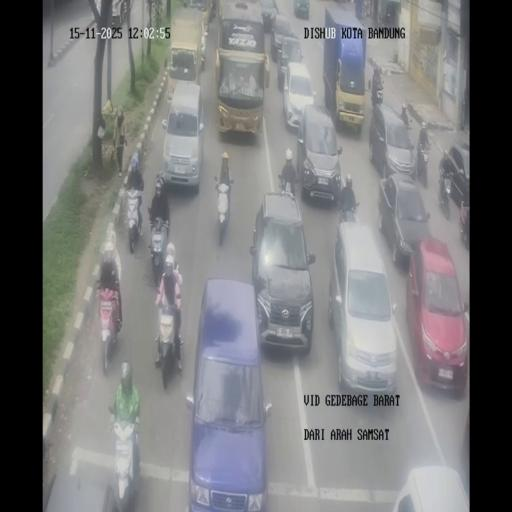car: (188, 280, 270, 506), (330, 220, 396, 396), (251, 191, 315, 352), (407, 241, 468, 393), (378, 172, 430, 266), (160, 82, 204, 190), (296, 103, 341, 206), (391, 464, 470, 510), (370, 102, 415, 182), (282, 61, 316, 133), (271, 15, 299, 82), (185, 0, 213, 36), (93, 0, 131, 26), (258, 0, 277, 31), (294, 0, 310, 19)
motorcycle: (106, 406, 140, 509), (153, 287, 183, 384), (96, 276, 123, 372), (213, 170, 234, 244), (148, 212, 170, 282), (126, 197, 142, 251), (459, 196, 470, 252), (438, 172, 451, 219), (416, 143, 429, 187), (278, 172, 298, 195), (338, 202, 357, 224), (371, 77, 383, 108), (96, 112, 106, 142)
truck: (214, 0, 268, 138), (323, 4, 369, 133)
